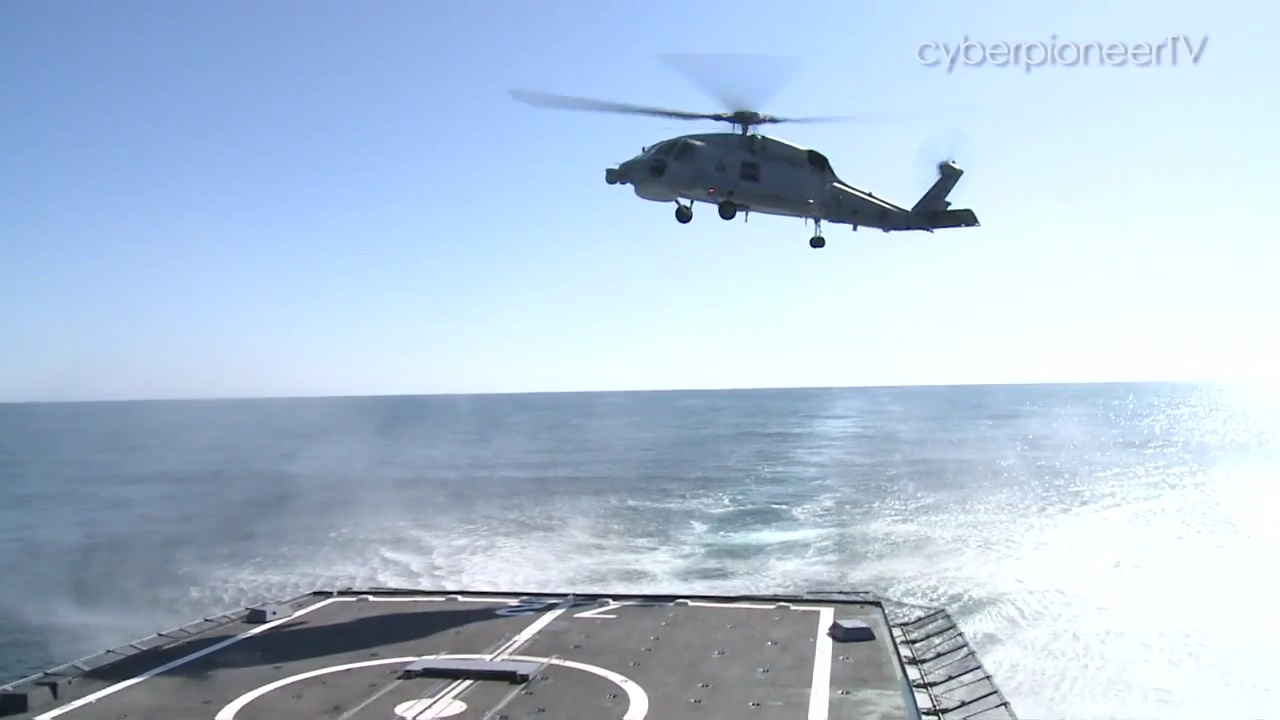seahawk: (506, 56, 1002, 251)
